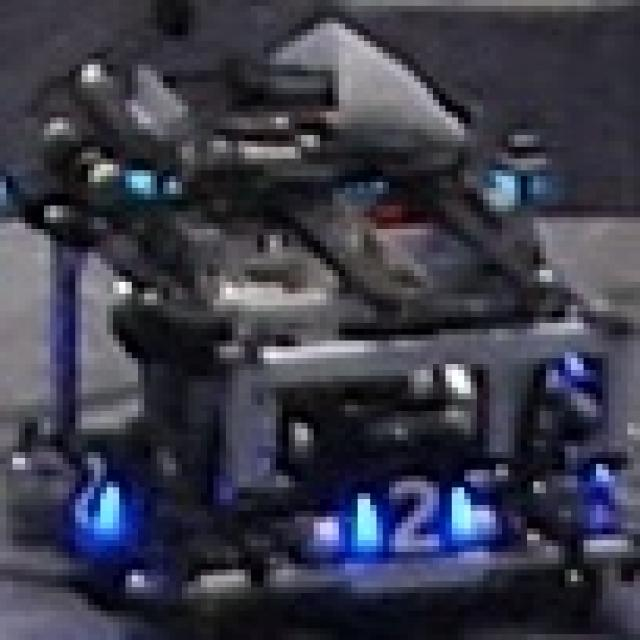B2: (351, 470, 477, 558), (50, 440, 132, 552)
